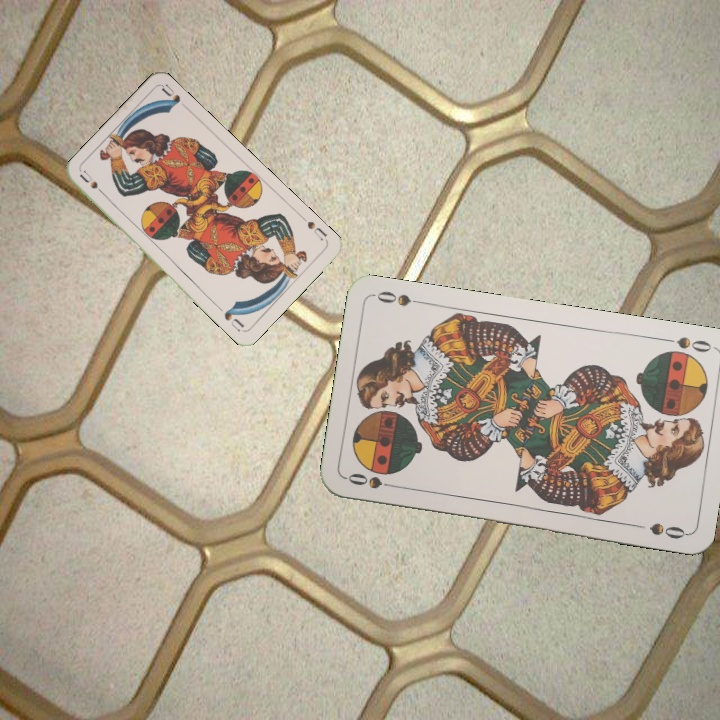SO: (343, 469, 402, 492), (658, 333, 717, 355)
SU: (76, 167, 110, 201), (303, 217, 330, 243)
